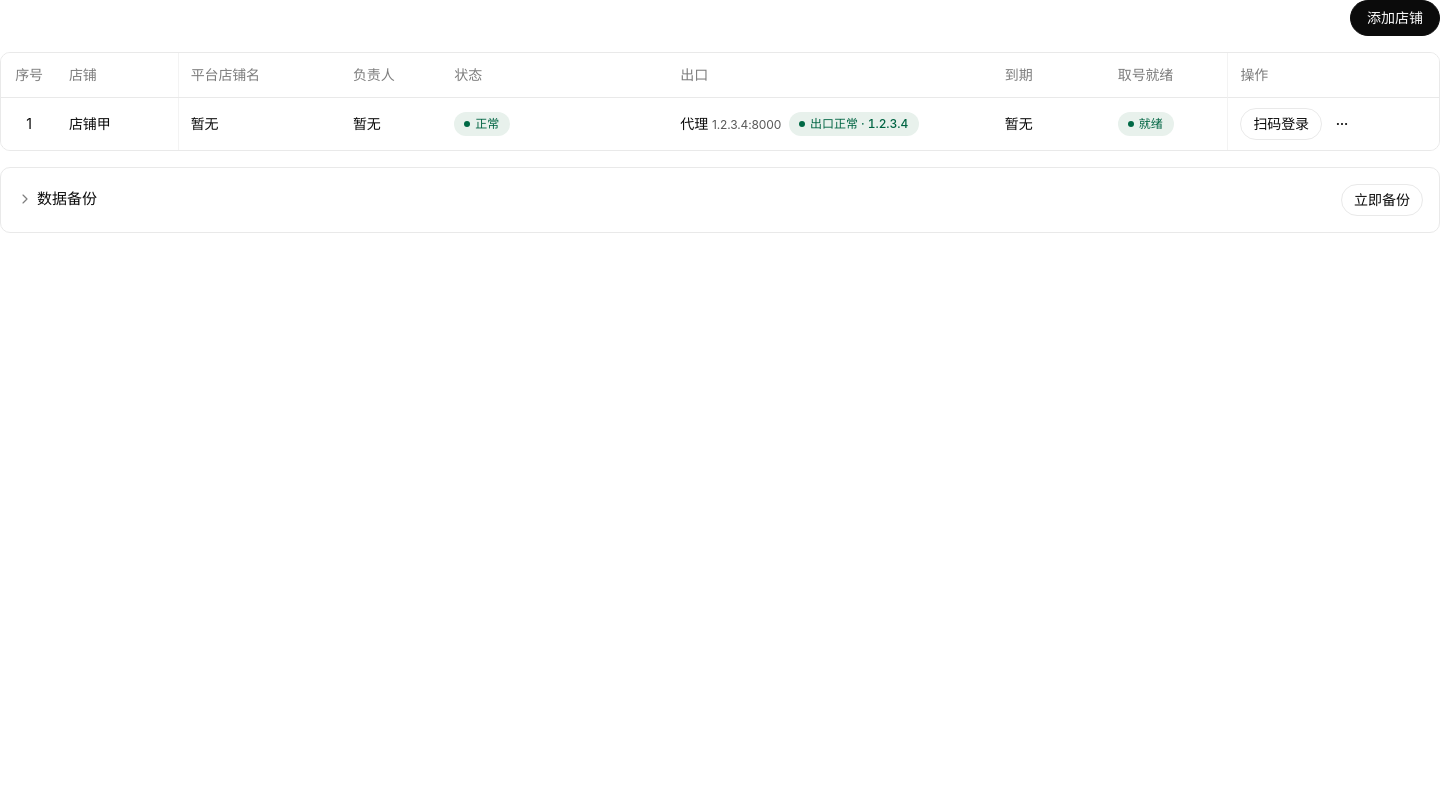
飞鸽消息 › 开启先确认，确认按钮是普通主按钮；确认后发 im_enabled: true
What coordinates should you click on to do the following:
click the button named "更多操作"
I would click on:
 (1342, 124)
Its box is top-left (1326, 108), bottom-right (1358, 140).
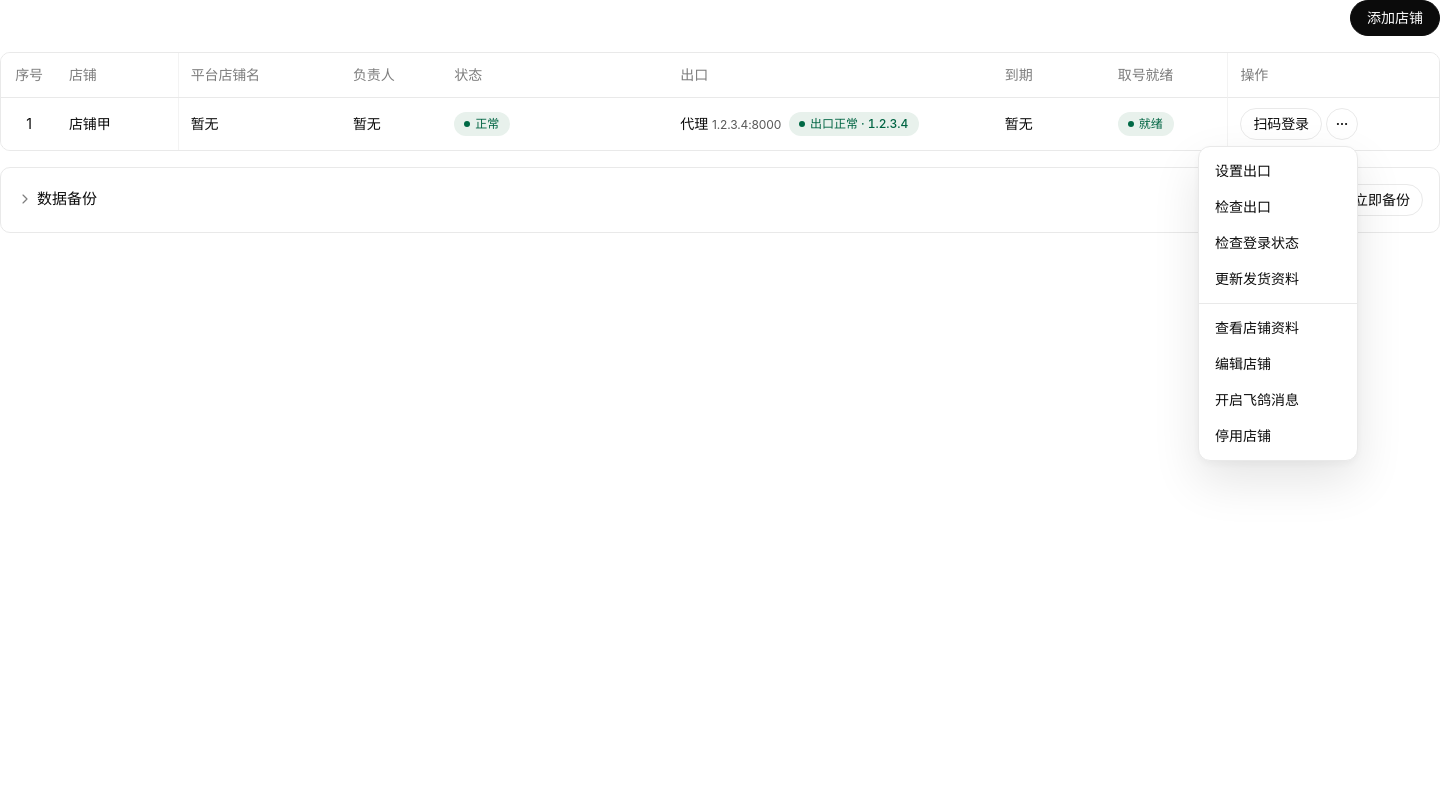
What coordinates should you click on to do the following:
click the menu item "开启飞鸽消息"
I would click on:
 (1257, 400)
Its box is top-left (1215, 391), bottom-right (1299, 408).
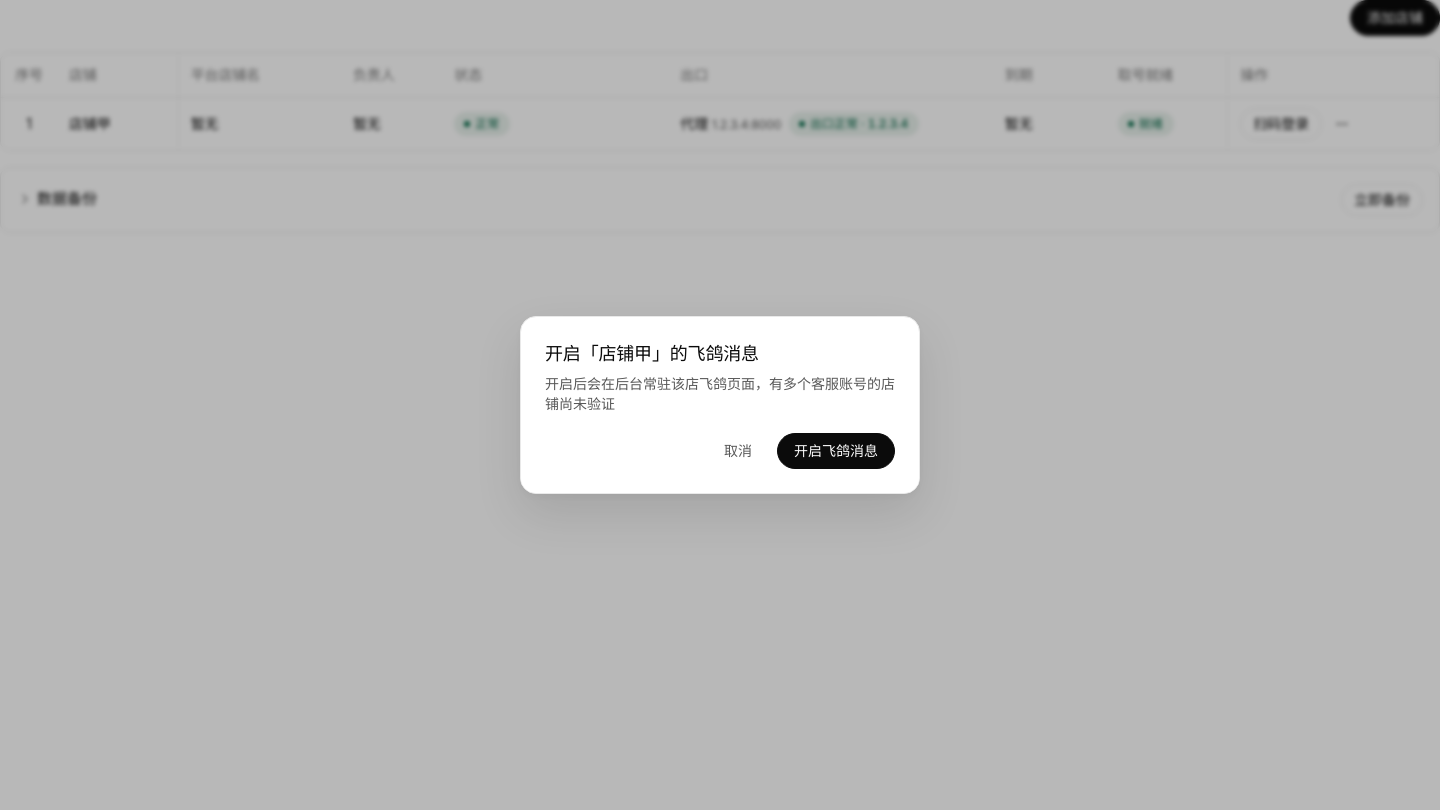
Check: the number of dialogs is 1, box top-left (520, 316), bottom-right (920, 494)
What coordinates should you click on to do the following:
click the button "开启飞鸽消息"
I would click on:
 (836, 451)
Its box is top-left (777, 433), bottom-right (895, 469).
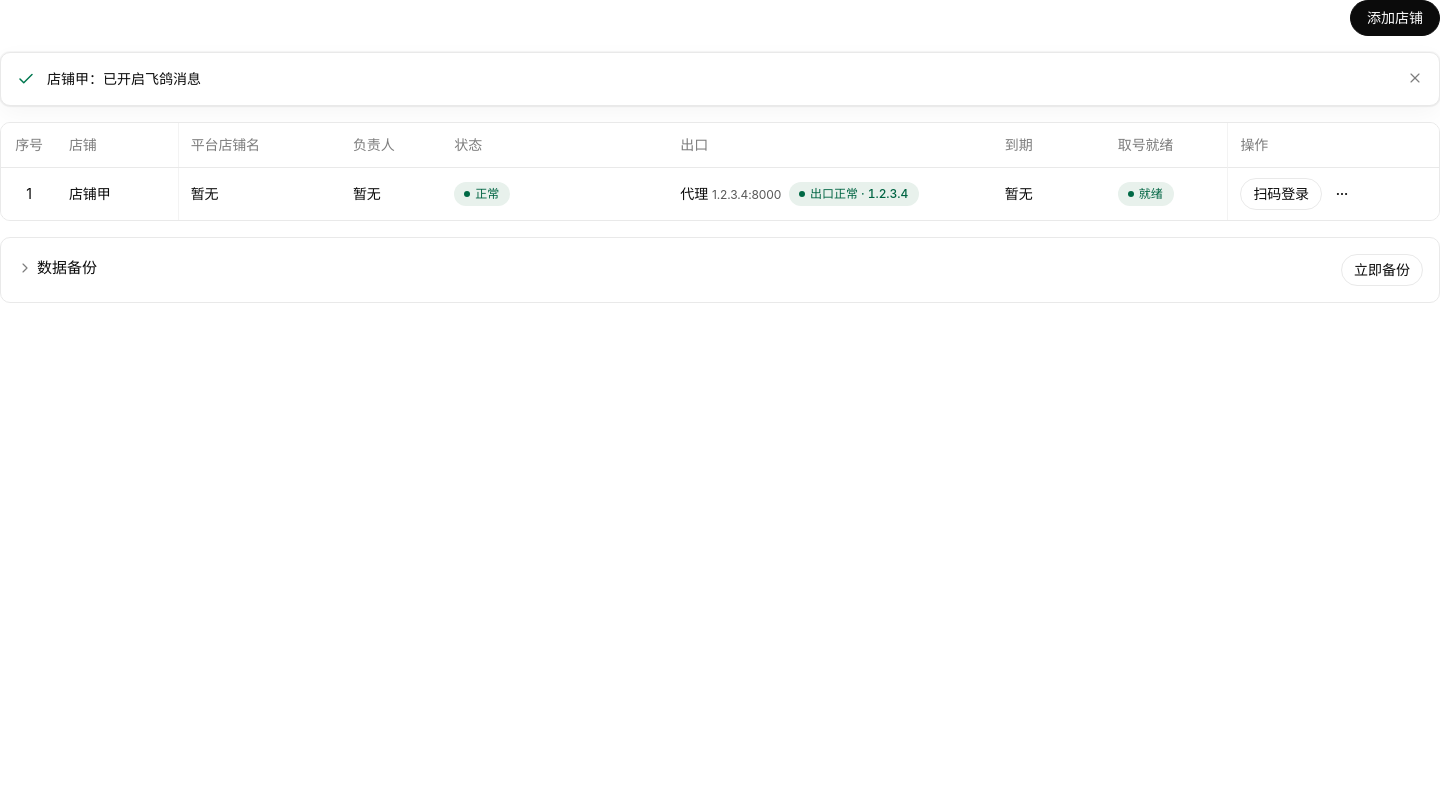
Check: the dialog is gone
Check: the text "店铺甲：已开启飞鸽消息" is shown, box top-left (47, 70), bottom-right (201, 87)
What coordinates should you click on to do the following:
click the button named "更多操作"
I would click on:
 (1342, 194)
Its box is top-left (1326, 178), bottom-right (1358, 210).
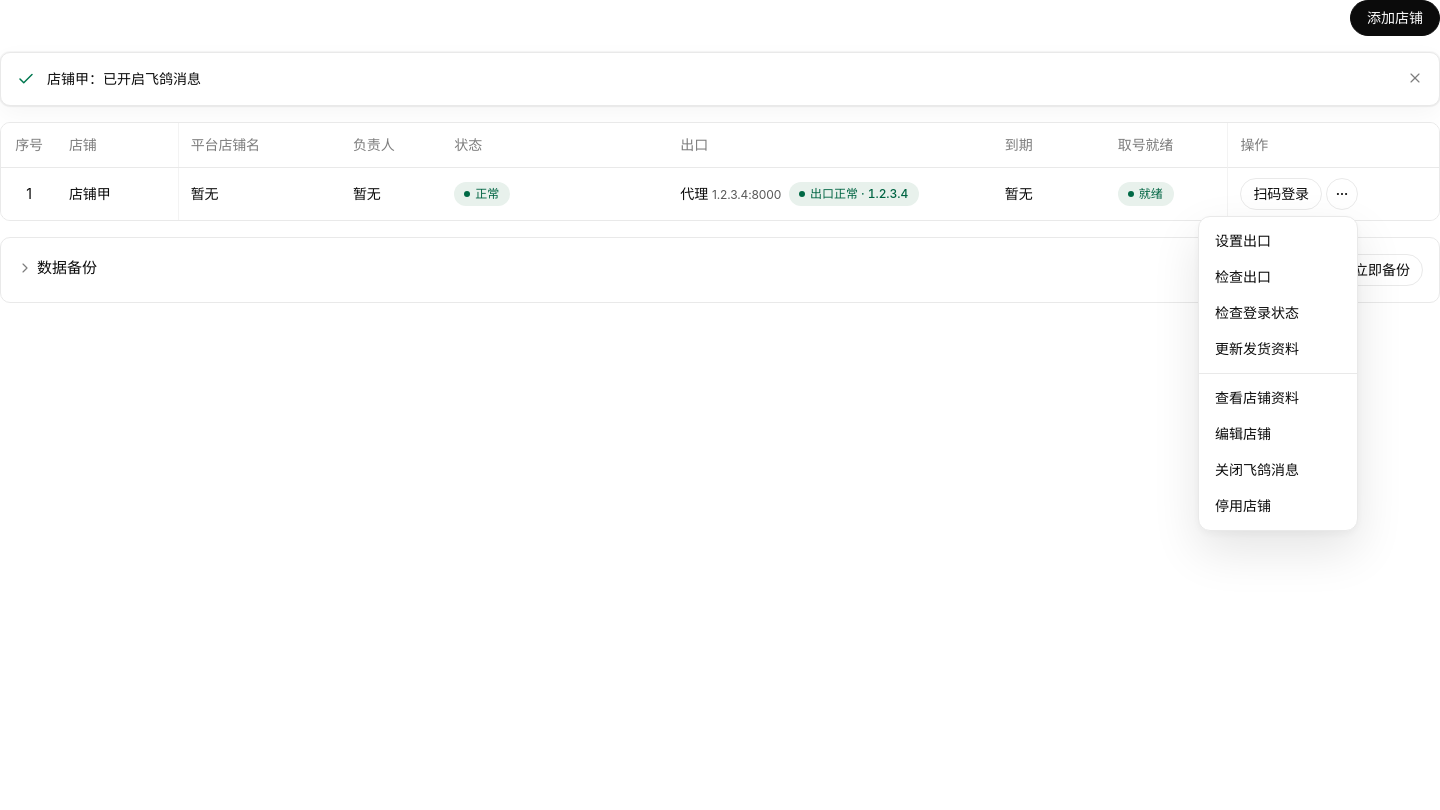
Check: the menu item "关闭飞鸽消息" is shown, box top-left (1215, 461), bottom-right (1299, 478)
